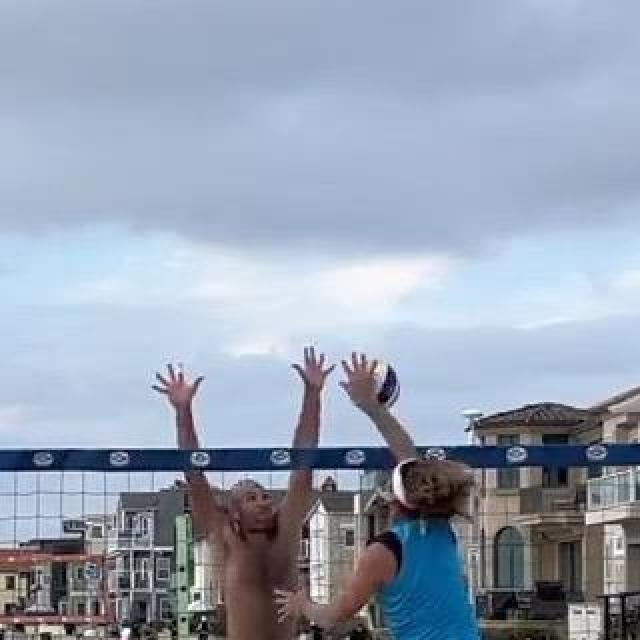volleyball: (347, 357, 401, 413)
